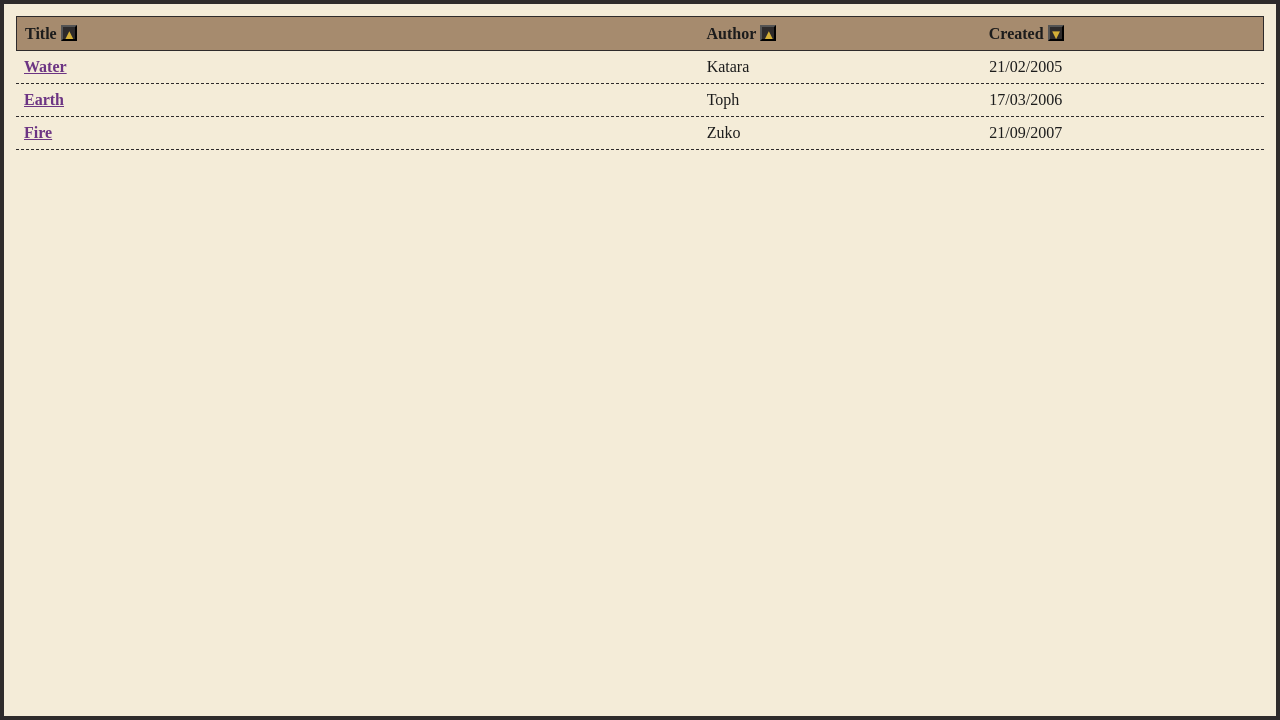
Campaigns can be sorted alphabetically
Expected: the link "Water" is shown, [24,59,67,75]
Click the button "▲" next to "Title". click: (69, 33)
box: [61,25,77,41]
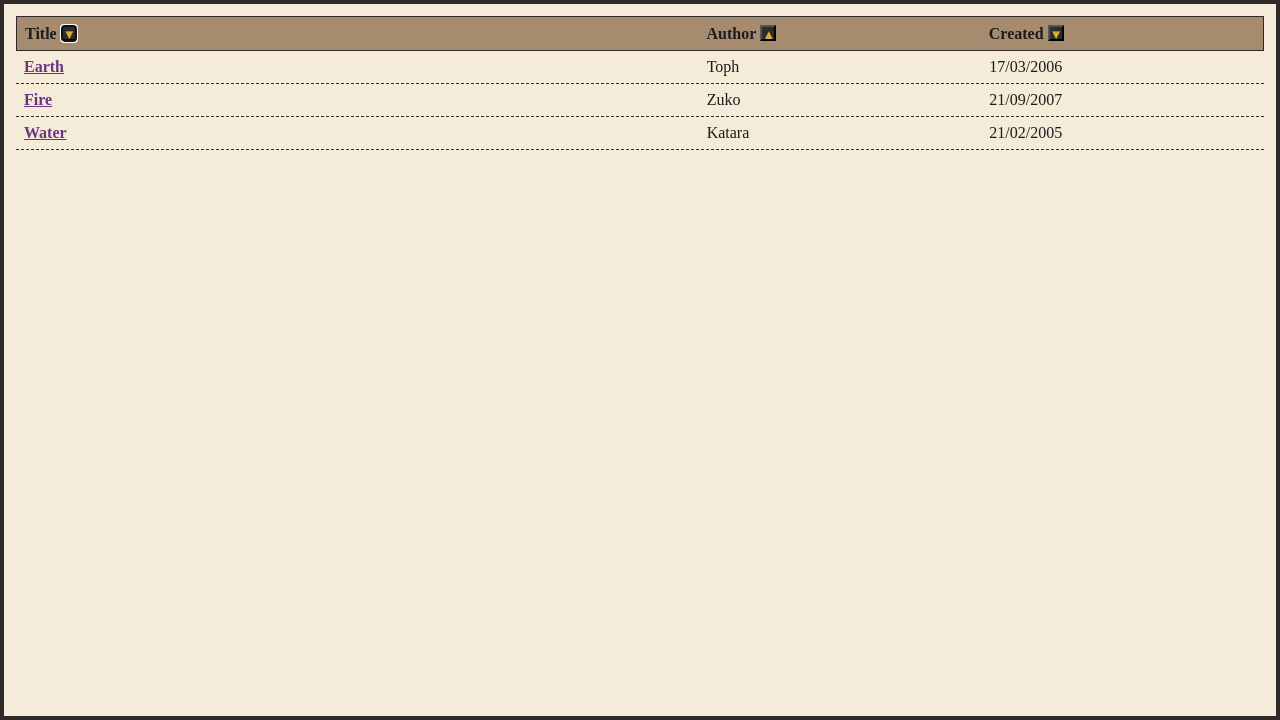
Expected: the links read "Earth", "Fire", "Water", in this order, [24,59,64,75]; [24,92,52,108]; [24,125,67,141]
